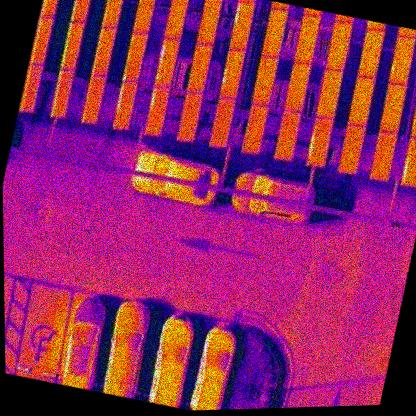Diode: (304, 115, 335, 168), (227, 0, 256, 53), (143, 83, 171, 137), (112, 80, 138, 131), (399, 135, 416, 189)
Hotspot: (217, 48, 247, 103), (386, 35, 416, 88), (153, 37, 182, 90), (122, 31, 149, 82)
Normal: (346, 75, 377, 130), (249, 53, 280, 108), (378, 82, 409, 136), (314, 68, 345, 122), (260, 5, 290, 60), (356, 27, 386, 82), (292, 13, 322, 66), (283, 60, 312, 114), (337, 122, 367, 174), (273, 110, 303, 162), (324, 21, 354, 73), (240, 103, 269, 156), (186, 42, 214, 96), (176, 90, 205, 142), (369, 131, 398, 182), (208, 97, 236, 149), (91, 26, 118, 79), (29, 14, 55, 68), (58, 21, 84, 73), (195, 0, 223, 48), (18, 61, 43, 114), (49, 70, 74, 121), (82, 75, 107, 125), (162, 0, 190, 41), (132, 0, 159, 35), (101, 0, 126, 30), (69, 0, 94, 26), (39, 0, 65, 21), (408, 90, 416, 143)
